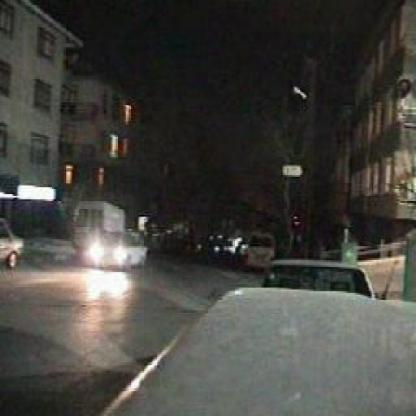other: (90, 232, 130, 286)
